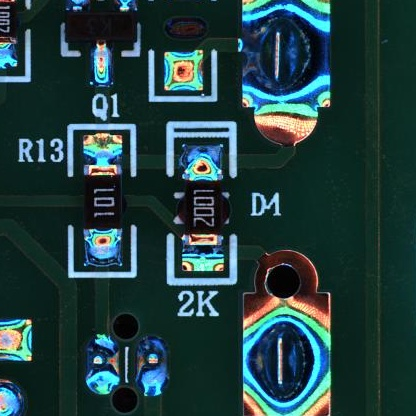spot: (131, 333, 174, 397), (86, 330, 121, 396), (162, 51, 205, 93)
